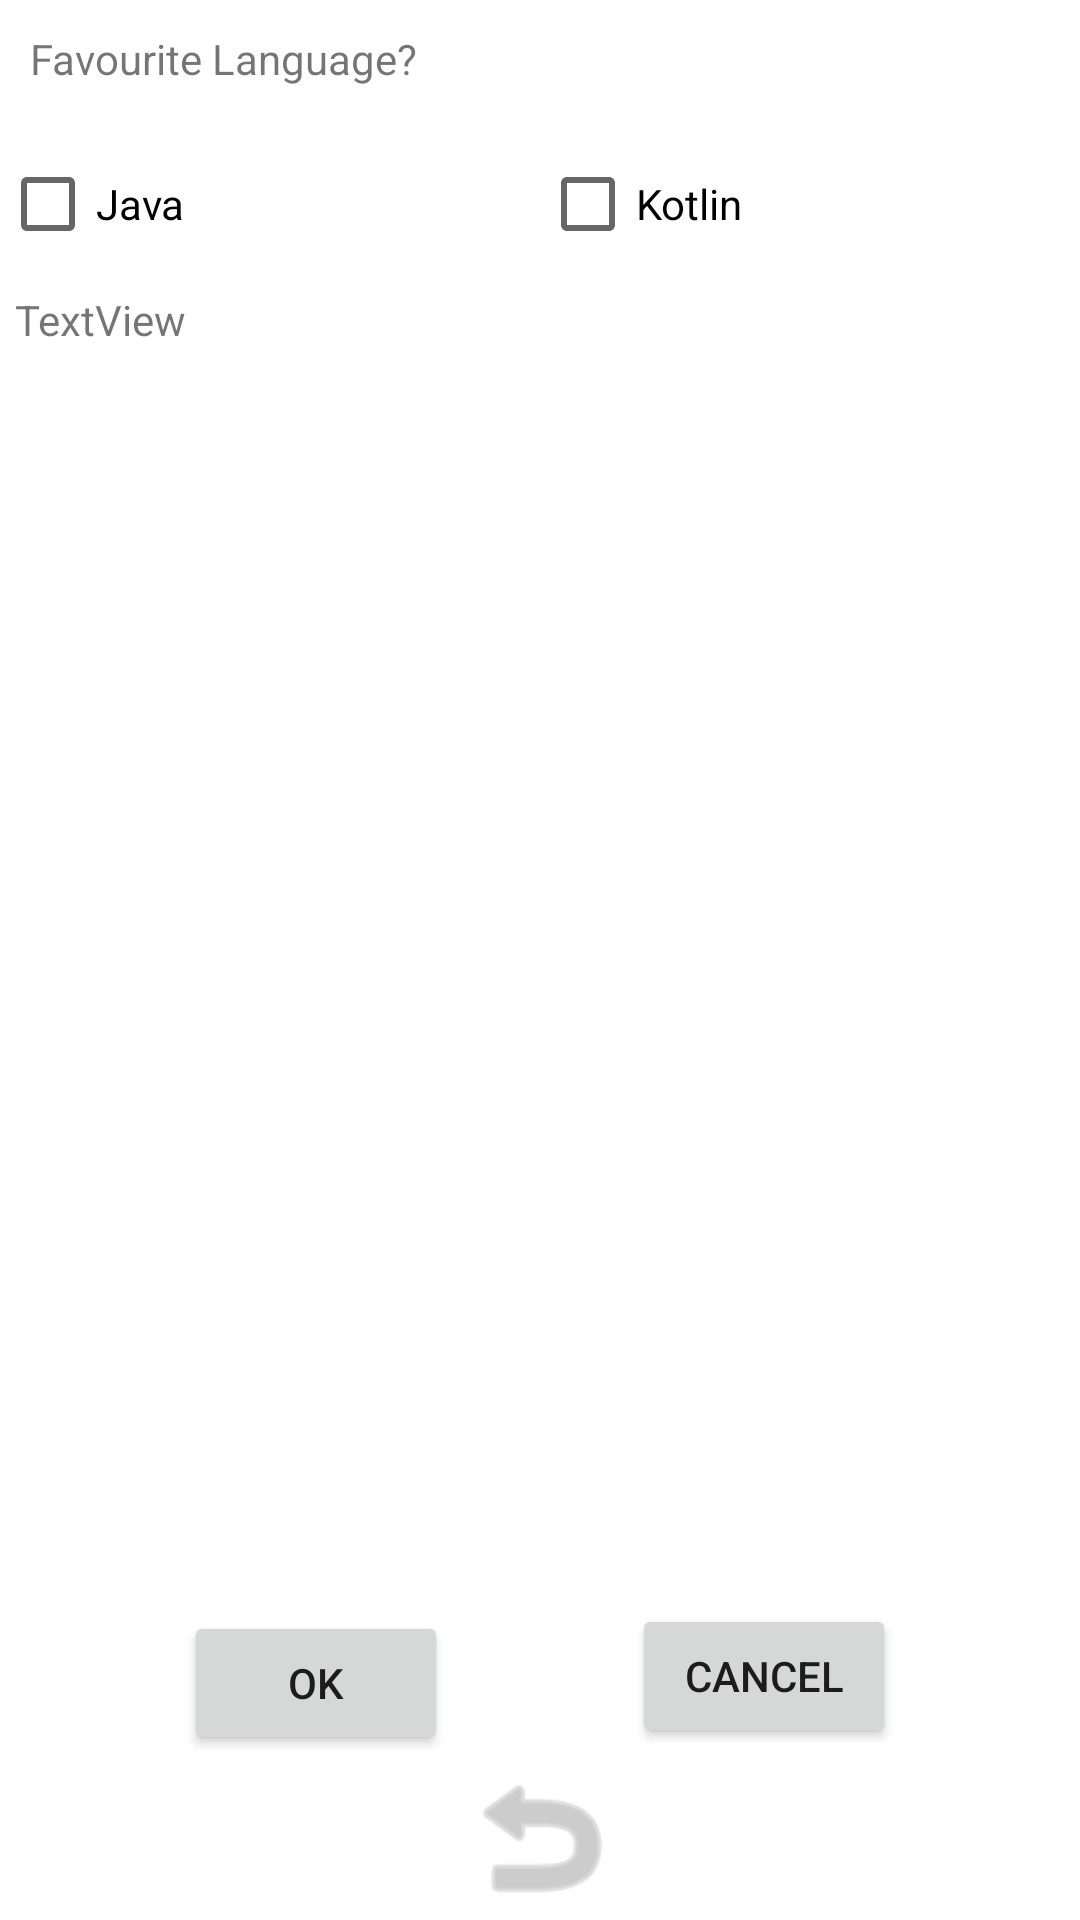

Icon click points for this 1080x1920 phone screenshot, format point (x, y):
revert: point (542, 1838)
